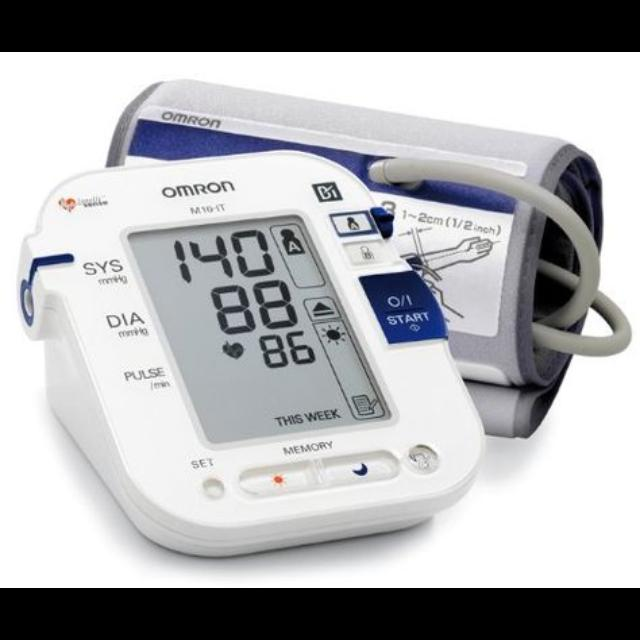Blood-Pressure-Monitor: (21, 152, 484, 555)
